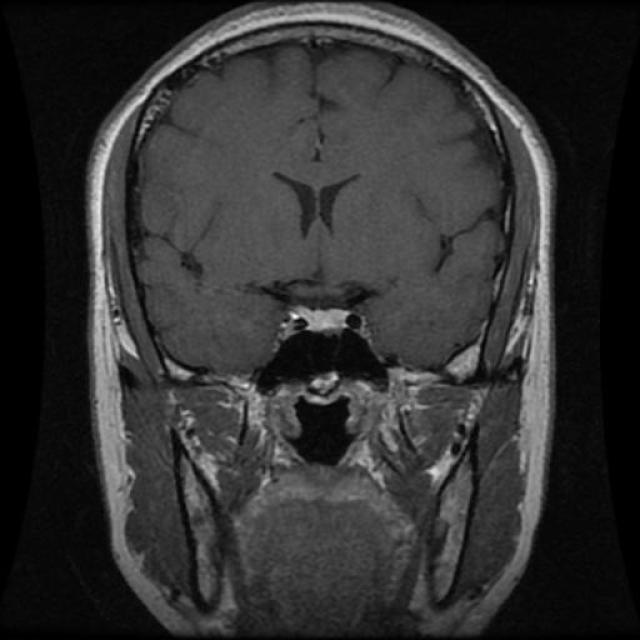pituitary: (257, 295, 385, 343)
